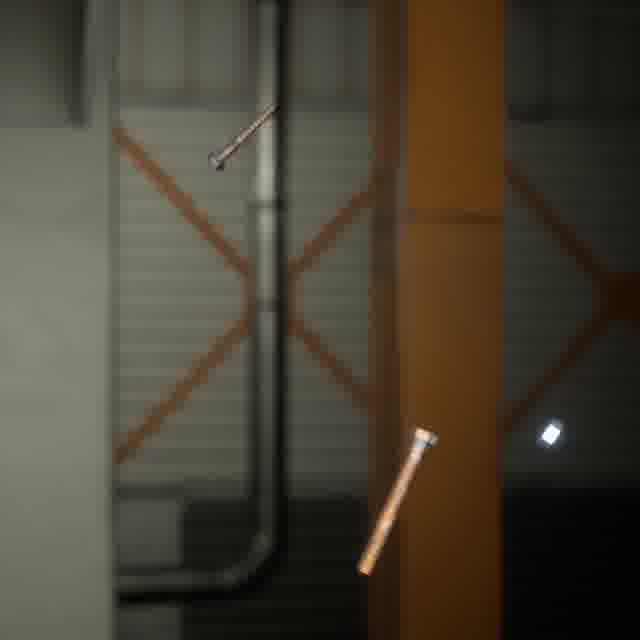bolt: (353, 421, 442, 579), (202, 98, 281, 176)
nut: (531, 414, 568, 455)
